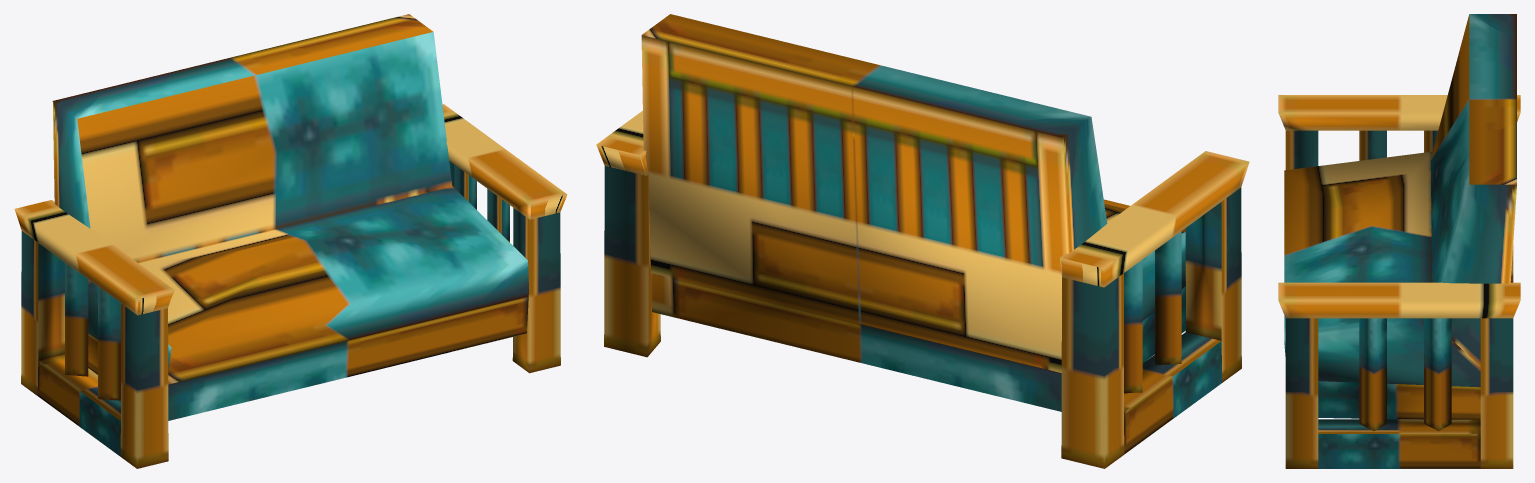
The model's file is rmk_cnt_chairL.dae.
3 views of the same model, side by side, from view 1: azimuth 30°, elevation 25°; view 2: azimuth 150°, elevation 25°; view 3: azimuth 270°, elevation 25° (orthographic). The views are drawn at different scales.
Parts seen in each view (by area): view 1: rmk_cnt_chairL; view 2: rmk_cnt_chairL; view 3: rmk_cnt_chairL.
Part boxes in pixels (x1=…): rmk_cnt_chairL: x1=14, y1=14, x2=567, y2=468; rmk_cnt_chairL: x1=596, y1=14, x2=1249, y2=468; rmk_cnt_chairL: x1=1278, y1=14, x2=1520, y2=468.
Bounding box in the file's own units: 56.85 × 34.59 × 28.32.
Materials: 1 (1 with a texture image).
